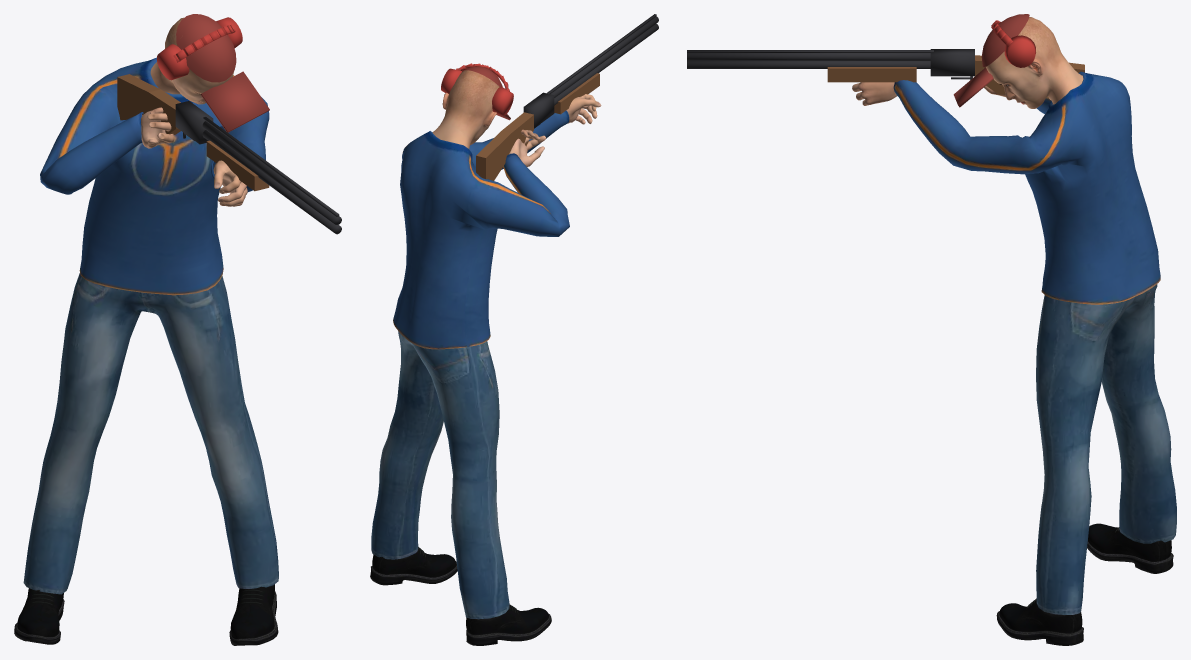
3 views of the same model, side by side, from view 1: azimuth 30°, elevation 25°; view 2: azimuth 150°, elevation 25°; view 3: azimuth 270°, elevation 25° (orthographic). The views are drawn at different scales.
Parts seen in each view (by area): view 1: Human.male_casualsuit02, casquette, Human.shoes03, fusil_acier, Human, fusil_bois, casque; view 2: Human.male_casualsuit02, Human, Human.shoes03, fusil_acier, fusil_bois, casque; view 3: Human.male_casualsuit02, fusil_acier, Human.shoes03, Human, fusil_bois, casquette, casque.
Part boxes in pixels (box(x1,y1,x2,y2)): Human.male_casualsuit02: box(23, 57, 278, 594); casquette: box(176, 14, 269, 132); Human.shoes03: box(14, 584, 278, 645); fusil_acier: box(175, 101, 341, 234); Human: box(141, 17, 247, 206); fusil_bois: box(117, 74, 269, 191); casque: box(156, 17, 242, 80); Human.male_casualsuit02: box(371, 110, 569, 619); Human: box(432, 70, 601, 166); Human.shoes03: box(370, 547, 551, 645); fusil_acier: box(523, 14, 658, 128); fusil_bois: box(476, 73, 599, 180); casque: box(441, 63, 513, 115); Human.male_casualsuit02: box(893, 71, 1176, 614); fusil_acier: box(687, 49, 974, 79); Human.shoes03: box(996, 523, 1173, 645); Human: box(852, 17, 1083, 108); fusil_bois: box(827, 55, 1084, 94); casquette: box(953, 14, 1029, 107); casque: box(991, 20, 1035, 67).
Bounding box in the file's own units: 0.7402 × 1.9 × 1.43.
Materials: 10 (6 with a texture image).
